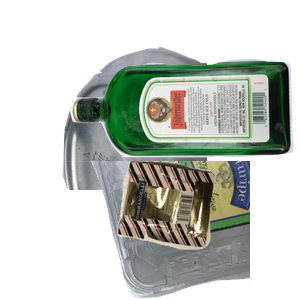glass: (67, 56, 300, 206)
metal: (60, 44, 300, 224)
plastic: (23, 161, 263, 300)
trash: (115, 158, 300, 300)
